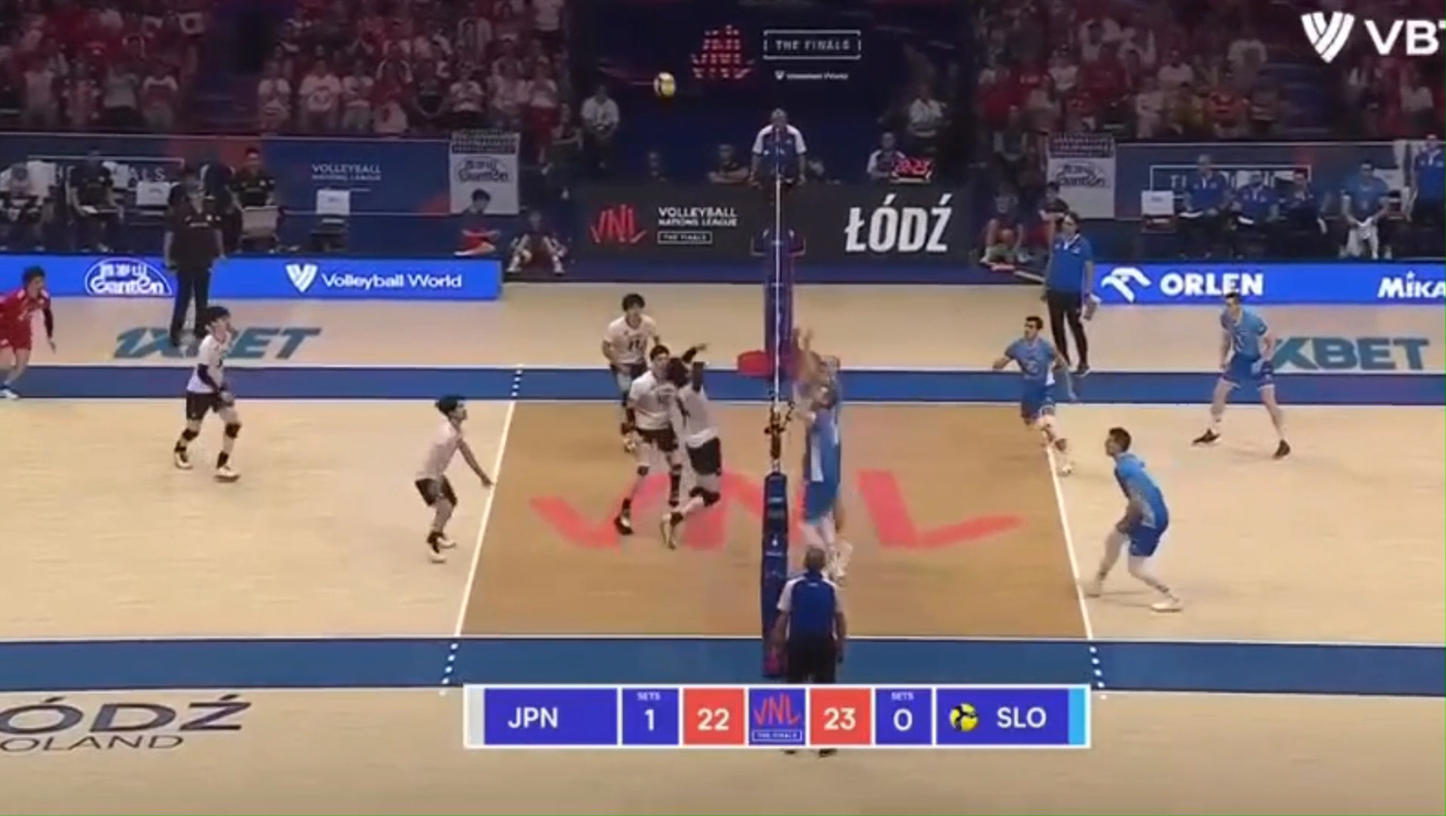ball: (653, 72, 675, 98)
player: (1082, 426, 1181, 611), (1191, 291, 1290, 458), (993, 315, 1073, 475), (793, 351, 845, 576), (795, 329, 848, 535)
player 1: (613, 345, 682, 533), (414, 397, 492, 561), (660, 345, 722, 546), (173, 305, 242, 481), (600, 292, 660, 451), (750, 108, 808, 264), (0, 266, 54, 397)
referee: (162, 172, 224, 346), (774, 549, 845, 682), (1043, 211, 1093, 376)
